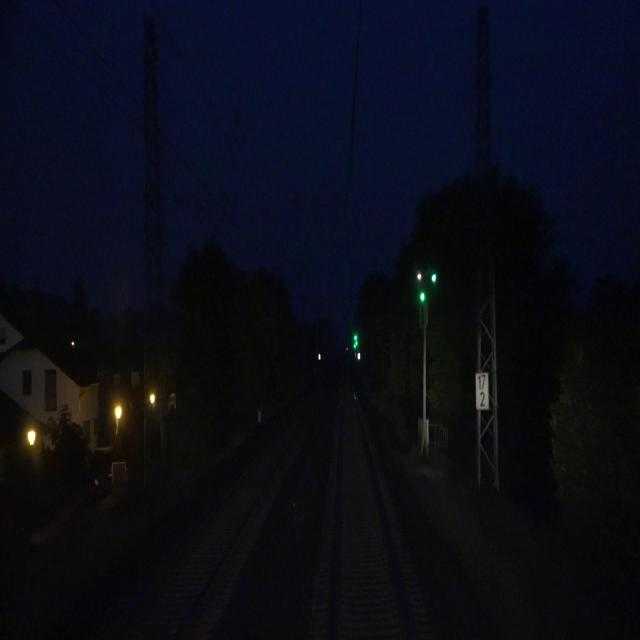rail-track: (101, 399, 311, 639), (335, 375, 412, 639)
